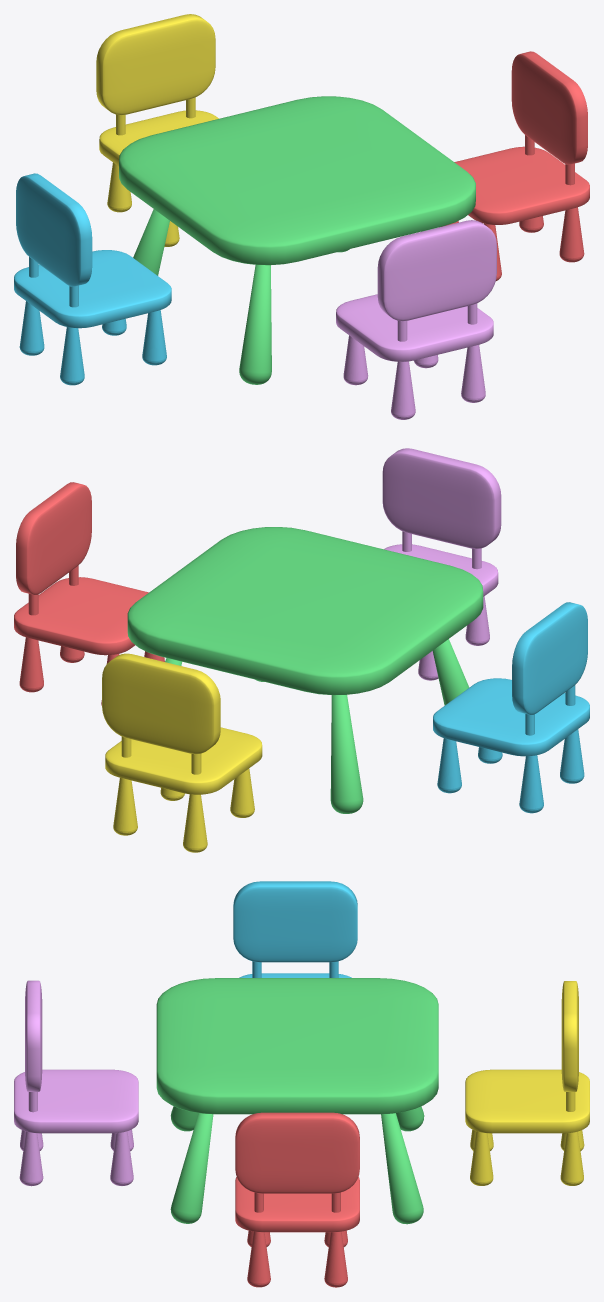
The model's file is chair and table.fbx.
The picture shows the model from 3 angles, top to bottom: view 1: azimuth 30°, elevation 25°; view 2: azimuth 150°, elevation 25°; view 3: azimuth 270°, elevation 25°; orthographic projection. The views are drawn at different scales.
Visible parts, largest first — view 1: Cube, Cube.002, Cube.008, Cube.004, Cube.006, Cube.005, Cube.003, Cube.007, Cone.001, Cube.001, Cone, Cone.018 (+7 smaller); view 2: Cube, Cube.008, Cube.002, Cube.004, Cube.006, Cube.005, Cube.003, Cube.001, Cone, Cube.007, Cone.001, Cone.005 (+7 smaller); view 3: Cube, Cube.005, Cube.003, Cube.001, Cube.007, Cube.006, Cone.003, Cone.002, Cube.008, Cube.002, Cone.014, Cone.013 (+4 smaller).
Part boxes in pixels (box(x1,y1,x2,y2)): Cube: box(119, 96, 475, 265); Cube.002: box(96, 14, 215, 115); Cube.008: box(377, 220, 496, 321); Cube.004: box(14, 250, 171, 328); Cube.006: box(454, 146, 589, 224); Cube.005: box(511, 51, 587, 164); Cube.003: box(16, 173, 92, 286); Cube.007: box(336, 294, 493, 361); Cone.001: box(239, 265, 271, 384); Cube.001: box(99, 110, 218, 166); Cone: box(133, 209, 169, 275); Cone.018: box(391, 361, 415, 419); Cube: box(127, 527, 483, 695); Cube.008: box(382, 448, 501, 548); Cube.002: box(102, 653, 220, 754); Cube.004: box(433, 678, 589, 756); Cube.006: box(14, 577, 148, 655); Cube.005: box(16, 482, 91, 594); Cube.003: box(512, 602, 587, 714); Cube.001: box(105, 727, 262, 794); Cone: box(330, 695, 363, 813); Cube.007: box(384, 544, 498, 596); Cone.001: box(432, 639, 469, 705); Cone.005: box(183, 794, 207, 852); Cube: box(156, 978, 438, 1114); Cube.005: box(235, 1112, 359, 1193); Cube.003: box(233, 881, 357, 962); Cube.001: box(465, 1069, 589, 1133); Cube.007: box(14, 1069, 138, 1133); Cube.006: box(235, 1177, 359, 1232); Cone.003: box(381, 1113, 423, 1224); Cone.002: box(170, 1113, 213, 1223); Cube.008: box(25, 980, 42, 1091); Cube.002: box(561, 981, 578, 1091); Cone.014: box(324, 1231, 347, 1287); Cone.013: box(247, 1231, 270, 1287).
Bounding box in the file's own units: 104 × 34.89 × 102.
